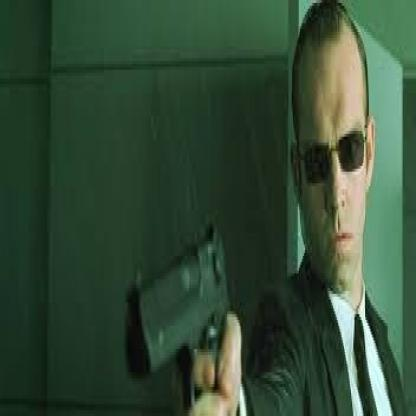Pistol: (116, 201, 230, 411)
